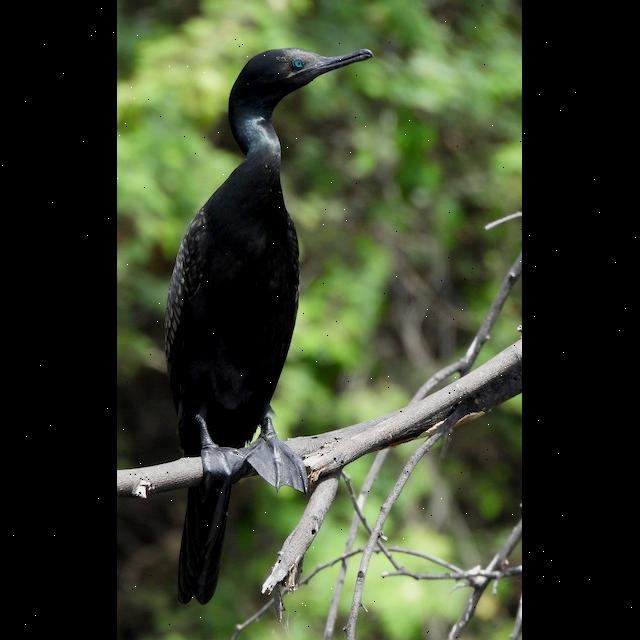cormorant: (144, 21, 386, 608)
